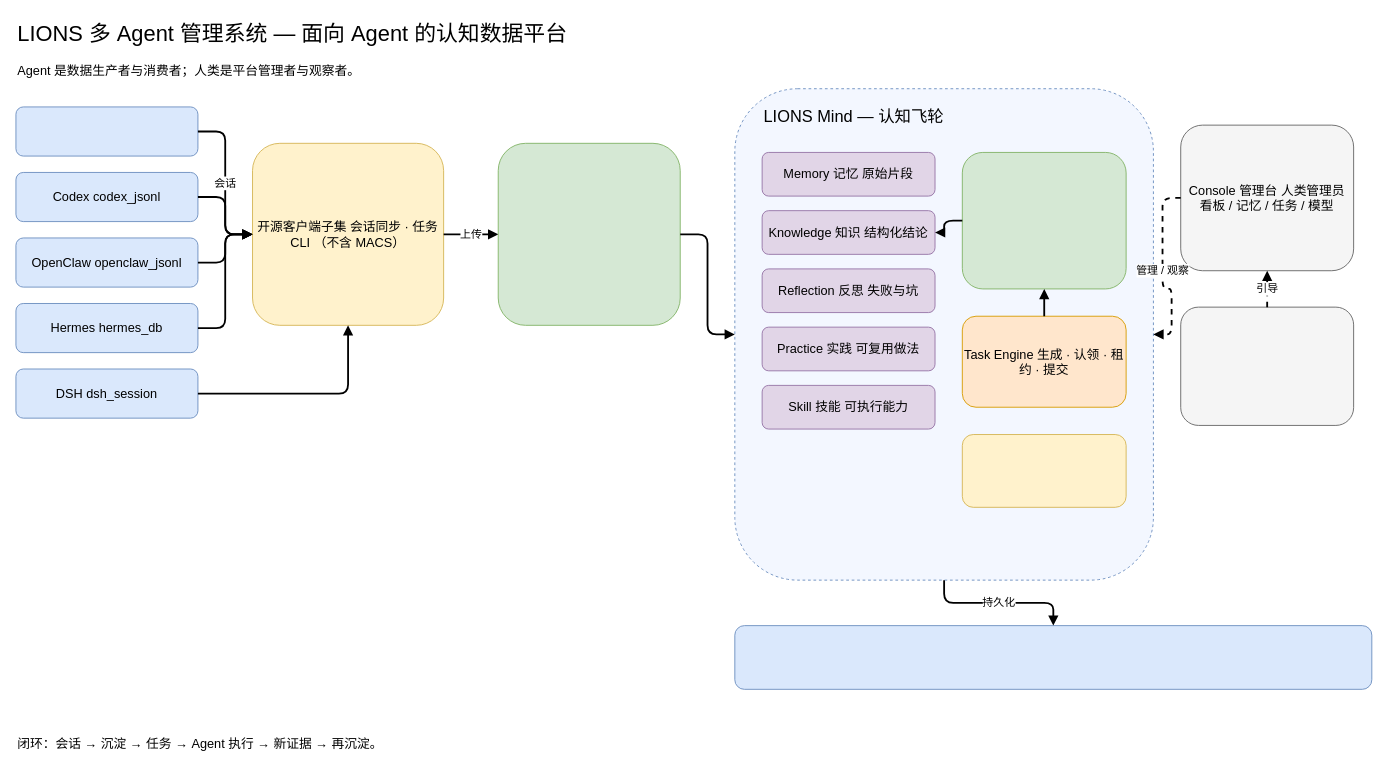
Some shapes in this 1397 by 777 pixel diagram are drawn without their labels. Each missing label, with the centre of its shape:
"Claude Code claude_jsonl" belongs at point 106,131.
"Flywheel 定时 · 重试 · 证据" belongs at point 1043,470.
"Organize Pipeline chunk → 合成 → 写入 → 校准 → 失效传播 → 技能" belongs at point 1043,220.
"Portal 开发者门户 注册 / 接入指南 / 数据用法" belongs at point 1267,365.
"PostgreSQL · 认知资产 / 任务 / 审计" belongs at point 1053,657.
"Session Service 上传 · 去重 · 归属" belongs at point 588,233.
